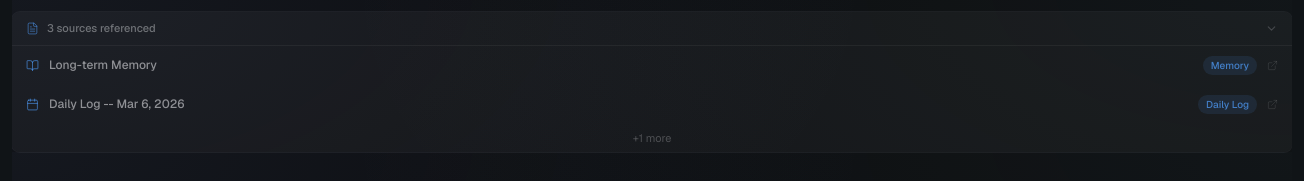
Test: SourcesCitation › shows a collapsed preview and expands remaining sources
The image size is (1304, 181).
Expected: the text "3 sources referenced" is shown, [47,20,156,36]
Expected: the text "report.pdf" is not shown
Click the button "+1 more": (652, 138) [12,124,1292,152]
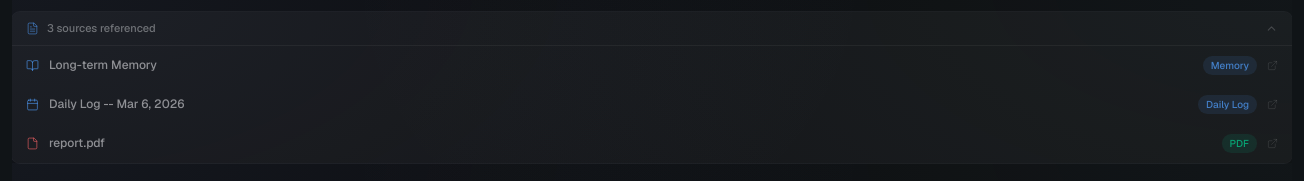
Expected: the text "report.pdf" is shown, [49,135,105,151]
